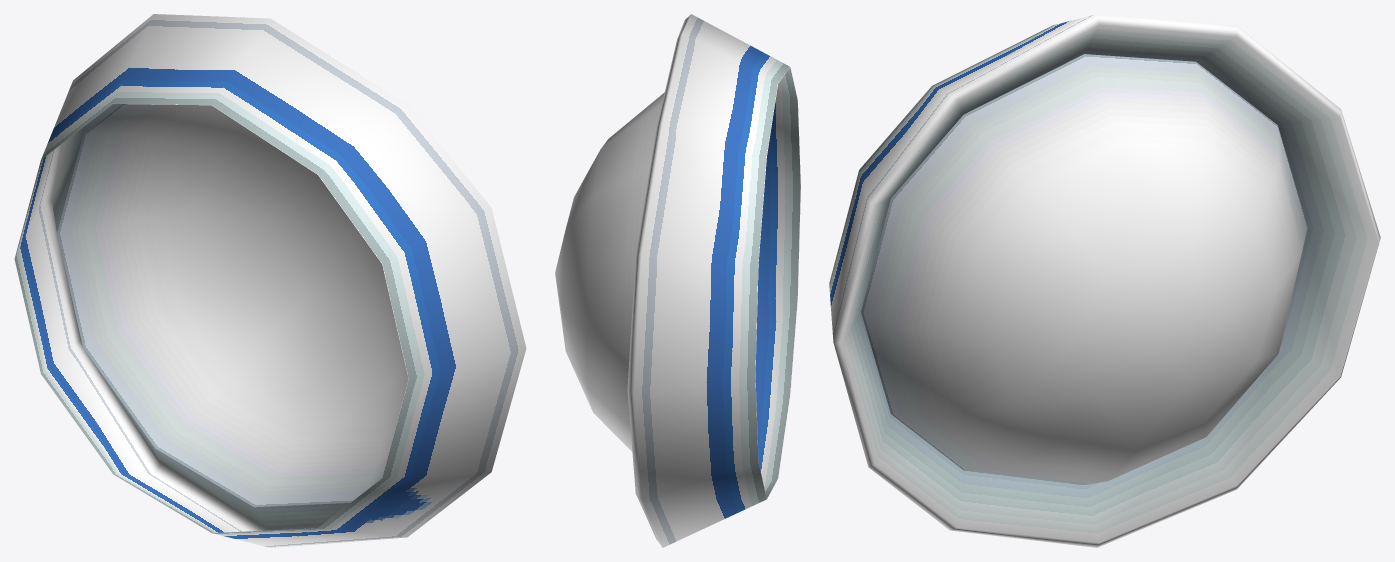
File: cap_hat_sailors.dae
The picture shows the model from 3 angles, left to right: view 1: azimuth 30°, elevation 25°; view 2: azimuth 150°, elevation 25°; view 3: azimuth 270°, elevation 25°; orthographic projection. The views are drawn at different scales.
Visible parts, largest first — view 1: cap_hat_sailors; view 2: cap_hat_sailors; view 3: cap_hat_sailors.
Boxes of the visible parts, x1,y1,x2,y2 form: cap_hat_sailors: (14, 14, 526, 547); cap_hat_sailors: (555, 14, 800, 547); cap_hat_sailors: (829, 14, 1380, 547).
Bounding box in the file's own units: 15.26 × 26.17 × 24.5.
Materials: 1 (1 with a texture image).
